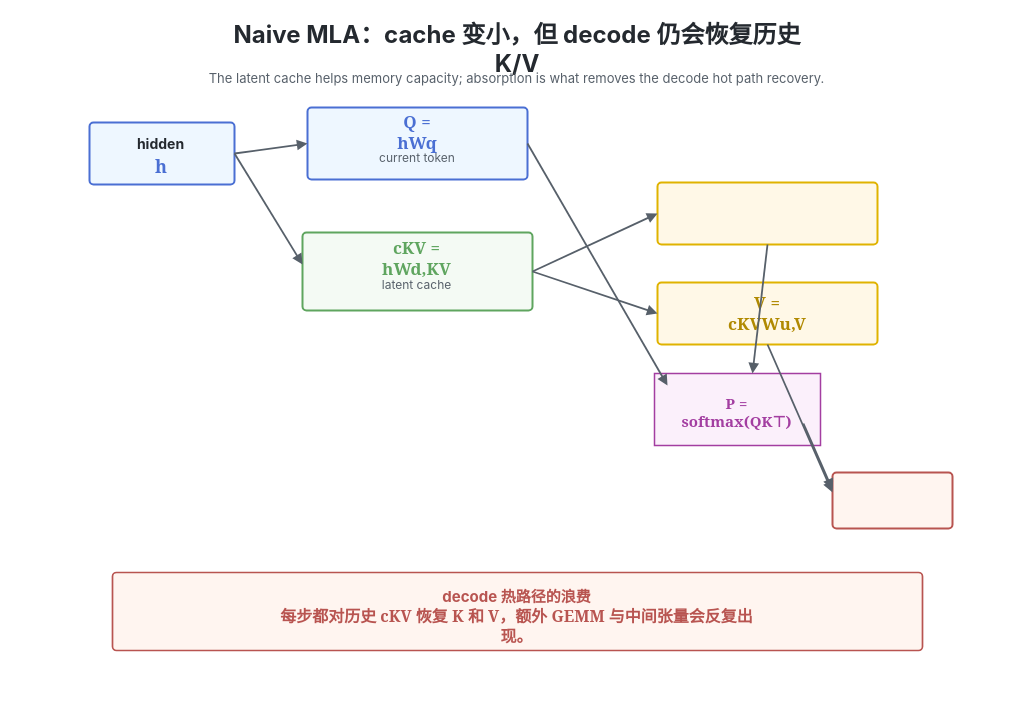
Image size: 1034x704. Some labels were removed from this diagram. Here are the shapes that lost their labels. From the top down, the centre of each, then its label:
At pixel 767 213: "K = cKVWu,K".
At pixel 892 500: "Y = PVWo".
